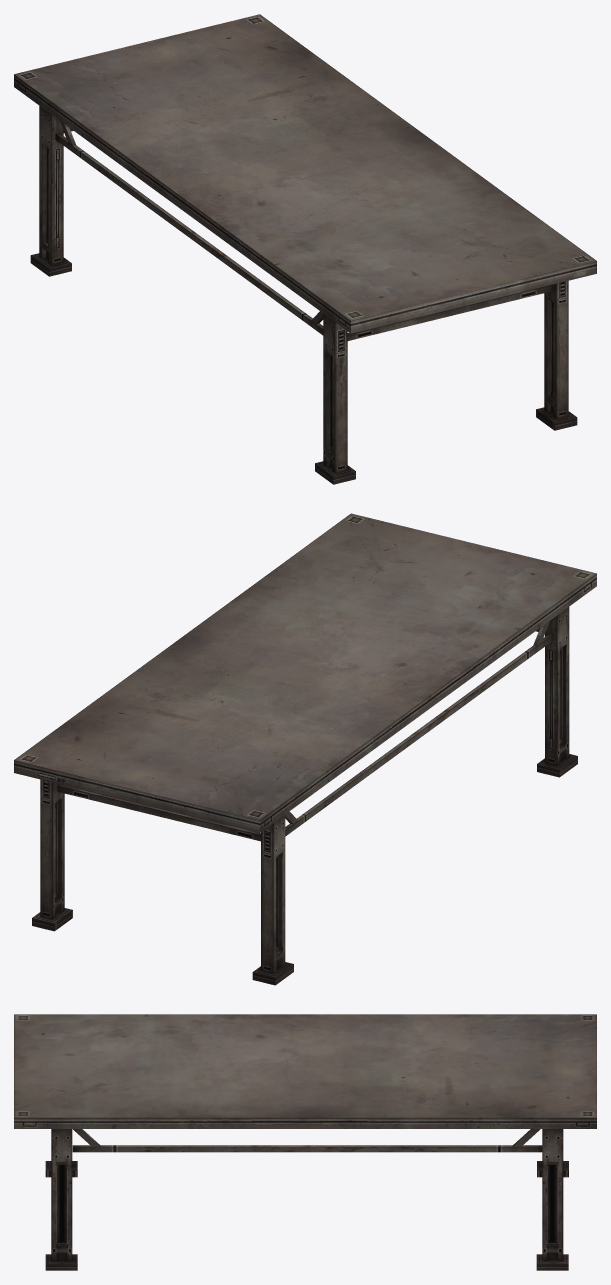
File: table_lab_large.dae
The picture shows the model from 3 angles, top to bottom: view 1: azimuth 30°, elevation 25°; view 2: azimuth 150°, elevation 25°; view 3: azimuth 270°, elevation 25°; orthographic projection. The views are drawn at different scales.
Parts seen in each view (by area): view 1: Mesh; view 2: Mesh; view 3: Mesh.
Boxes of the visible parts, x1,y1,x2,y2 form: Mesh: (14, 14, 596, 484); Mesh: (14, 513, 596, 985); Mesh: (14, 1014, 596, 1270).
Size of the model in its own units: 1.53 by 1.05 by 3.63.
